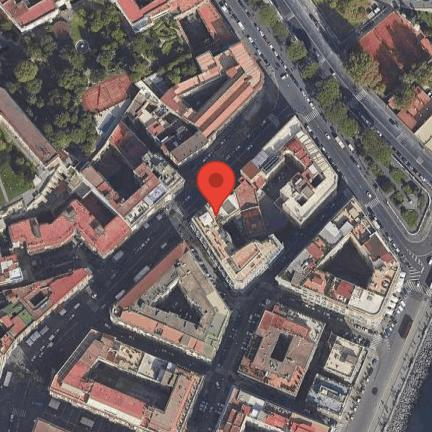area_open: (337, 274, 421, 432), (217, 58, 326, 164), (367, 295, 432, 432), (352, 11, 432, 93), (0, 179, 74, 244), (223, 270, 289, 337), (86, 361, 173, 409), (177, 54, 242, 115), (23, 238, 106, 282), (264, 154, 304, 239), (319, 234, 374, 290), (20, 240, 91, 280), (0, 368, 46, 429), (191, 356, 247, 401), (93, 146, 140, 196), (258, 191, 300, 245), (151, 283, 202, 326), (82, 73, 132, 114), (64, 150, 96, 197), (96, 101, 130, 141), (225, 215, 264, 244), (98, 98, 127, 137), (271, 334, 294, 364), (272, 335, 291, 362)
built: (46, 329, 203, 432), (276, 196, 400, 326), (274, 199, 399, 327), (49, 330, 201, 432), (161, 1, 268, 142), (111, 240, 230, 365), (108, 243, 231, 362), (159, 39, 264, 164), (78, 120, 187, 230), (83, 120, 185, 233), (242, 114, 339, 231), (240, 112, 339, 224), (193, 177, 287, 291), (10, 173, 134, 259), (0, 264, 93, 374), (0, 268, 92, 378), (189, 192, 285, 291), (239, 299, 326, 399), (1, 84, 66, 213), (240, 305, 326, 396), (9, 197, 131, 260), (111, 0, 241, 54), (127, 86, 212, 166), (359, 11, 432, 98), (215, 384, 338, 432), (123, 80, 197, 154), (217, 389, 334, 432), (0, 87, 60, 169), (116, 0, 208, 33), (384, 78, 432, 132), (321, 335, 370, 385), (386, 85, 432, 134), (304, 374, 352, 420), (0, 0, 71, 31), (322, 335, 368, 382), (0, 0, 71, 30), (304, 375, 352, 415), (236, 179, 266, 239), (84, 74, 131, 111), (0, 256, 24, 287), (0, 256, 24, 286), (413, 114, 432, 150), (31, 419, 70, 431), (394, 0, 431, 11)
vegetation_high: (0, 4, 159, 154), (244, 0, 363, 139), (2, 21, 110, 156), (345, 52, 386, 94), (393, 63, 432, 105), (167, 62, 201, 84)
vegetation_low: (248, 0, 432, 246), (60, 0, 197, 82), (349, 128, 432, 243), (0, 122, 42, 206), (313, 0, 393, 42), (0, 124, 37, 208), (146, 15, 194, 75), (53, 0, 104, 56), (314, 1, 388, 37), (342, 49, 388, 102), (0, 6, 21, 82), (397, 11, 431, 40), (413, 51, 432, 97)
water: (404, 355, 432, 432), (402, 361, 431, 432)
